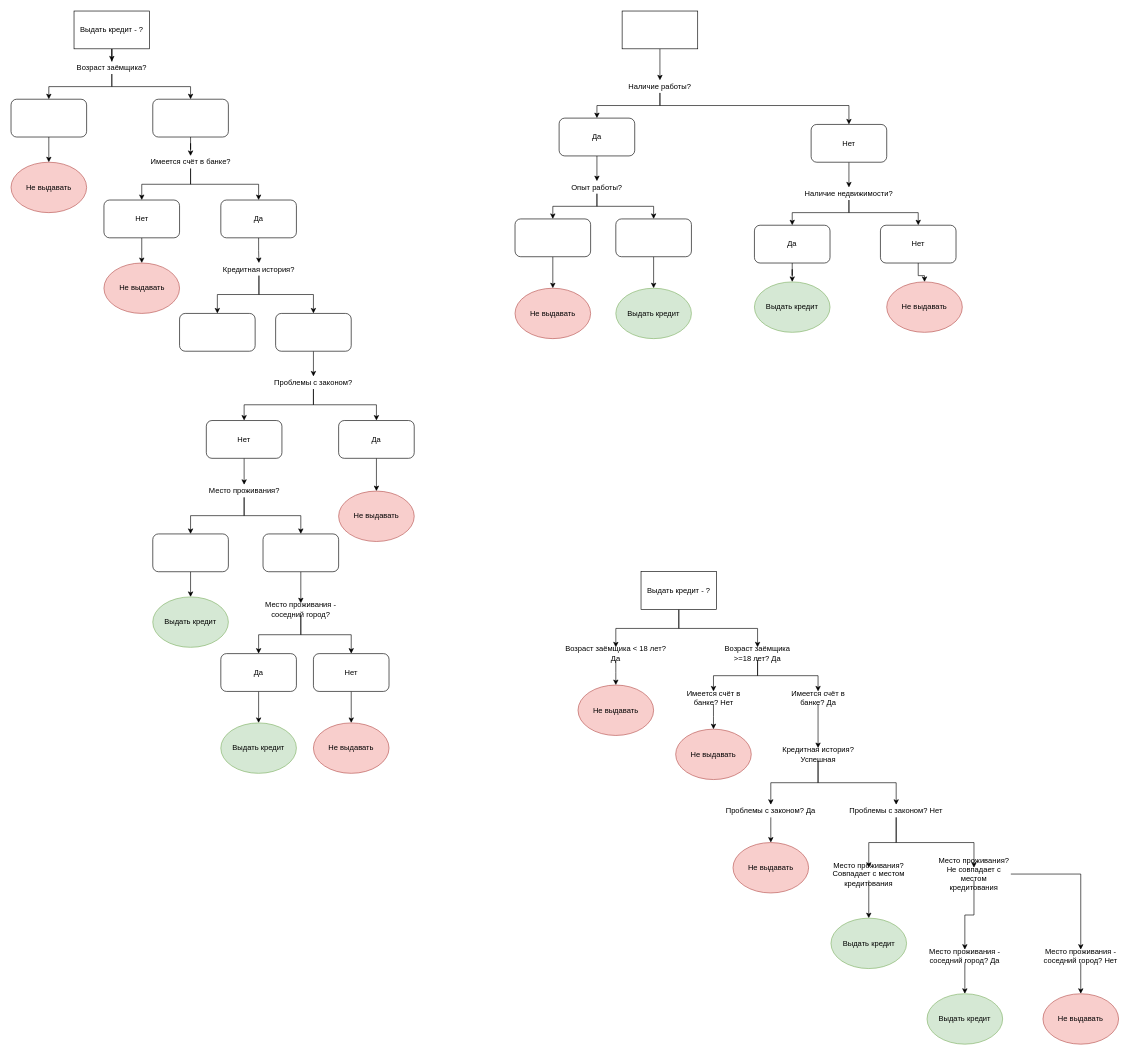
The diagram is 1132 pixels wide and 1055 high, and some of its shapes have lost their labels. Here are the shapes that lost their labels. From the top down, the centre of each, then its label:
(x=659, y=29): Неуспешная кредитная история
(x=48, y=118): <18 лет
(x=190, y=118): >= 18 лет
(x=552, y=237): < года
(x=653, y=237): >= года
(x=217, y=332): Неуспешная
(x=313, y=332): Успешная
(x=190, y=552): Совпадает с местом кредитования
(x=300, y=552): Не совпадает с местом кредитования
